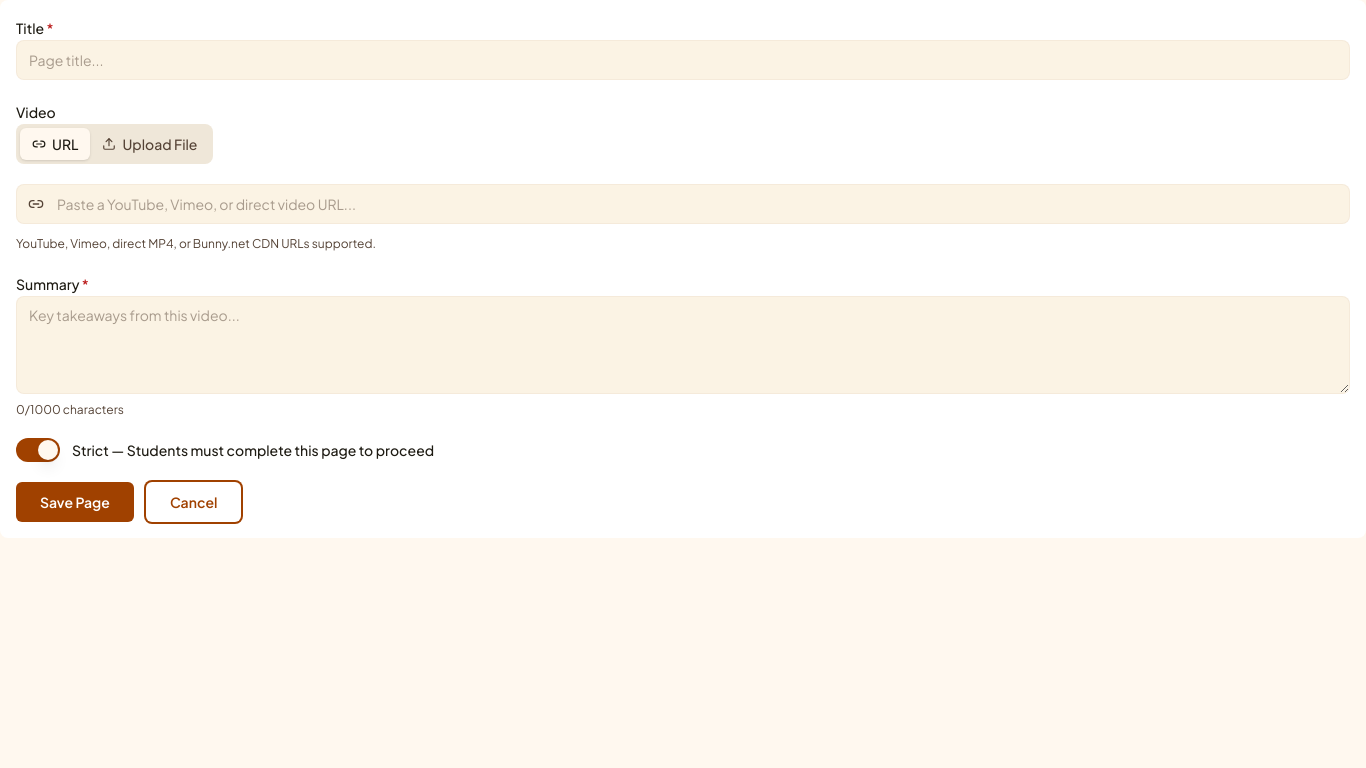
Test: AdminPageEditor › strict/optional toggle › toggling switch changes label from Strict to Optional
Expected: the text "Strict — Students must complete this page to proceed" is shown, top-left (72, 443), bottom-right (434, 457)
Click the switch named "Mark page as strict (required for progression)". click: point(38, 450)
box: top-left (16, 438), bottom-right (60, 462)
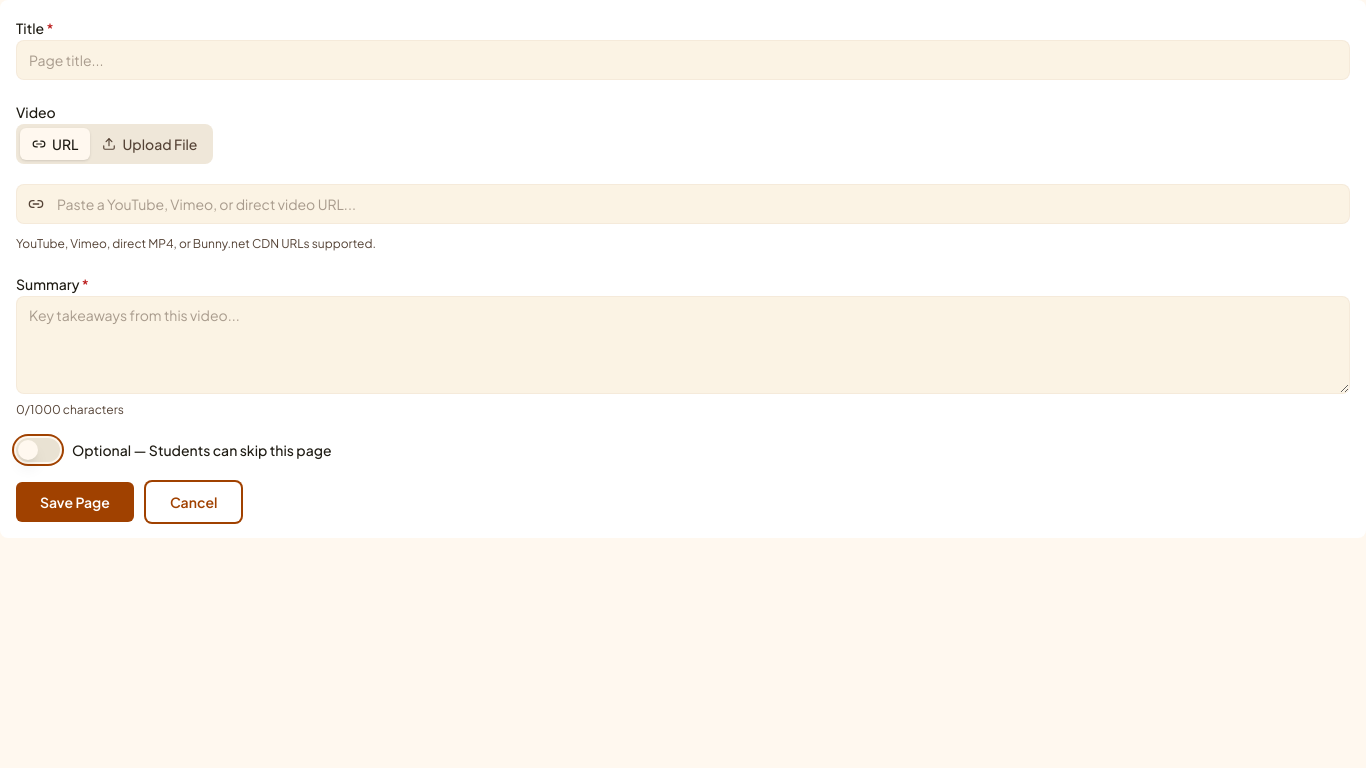
Now the text "Optional — Students can skip this page" is shown, box top-left (72, 443), bottom-right (332, 457)
